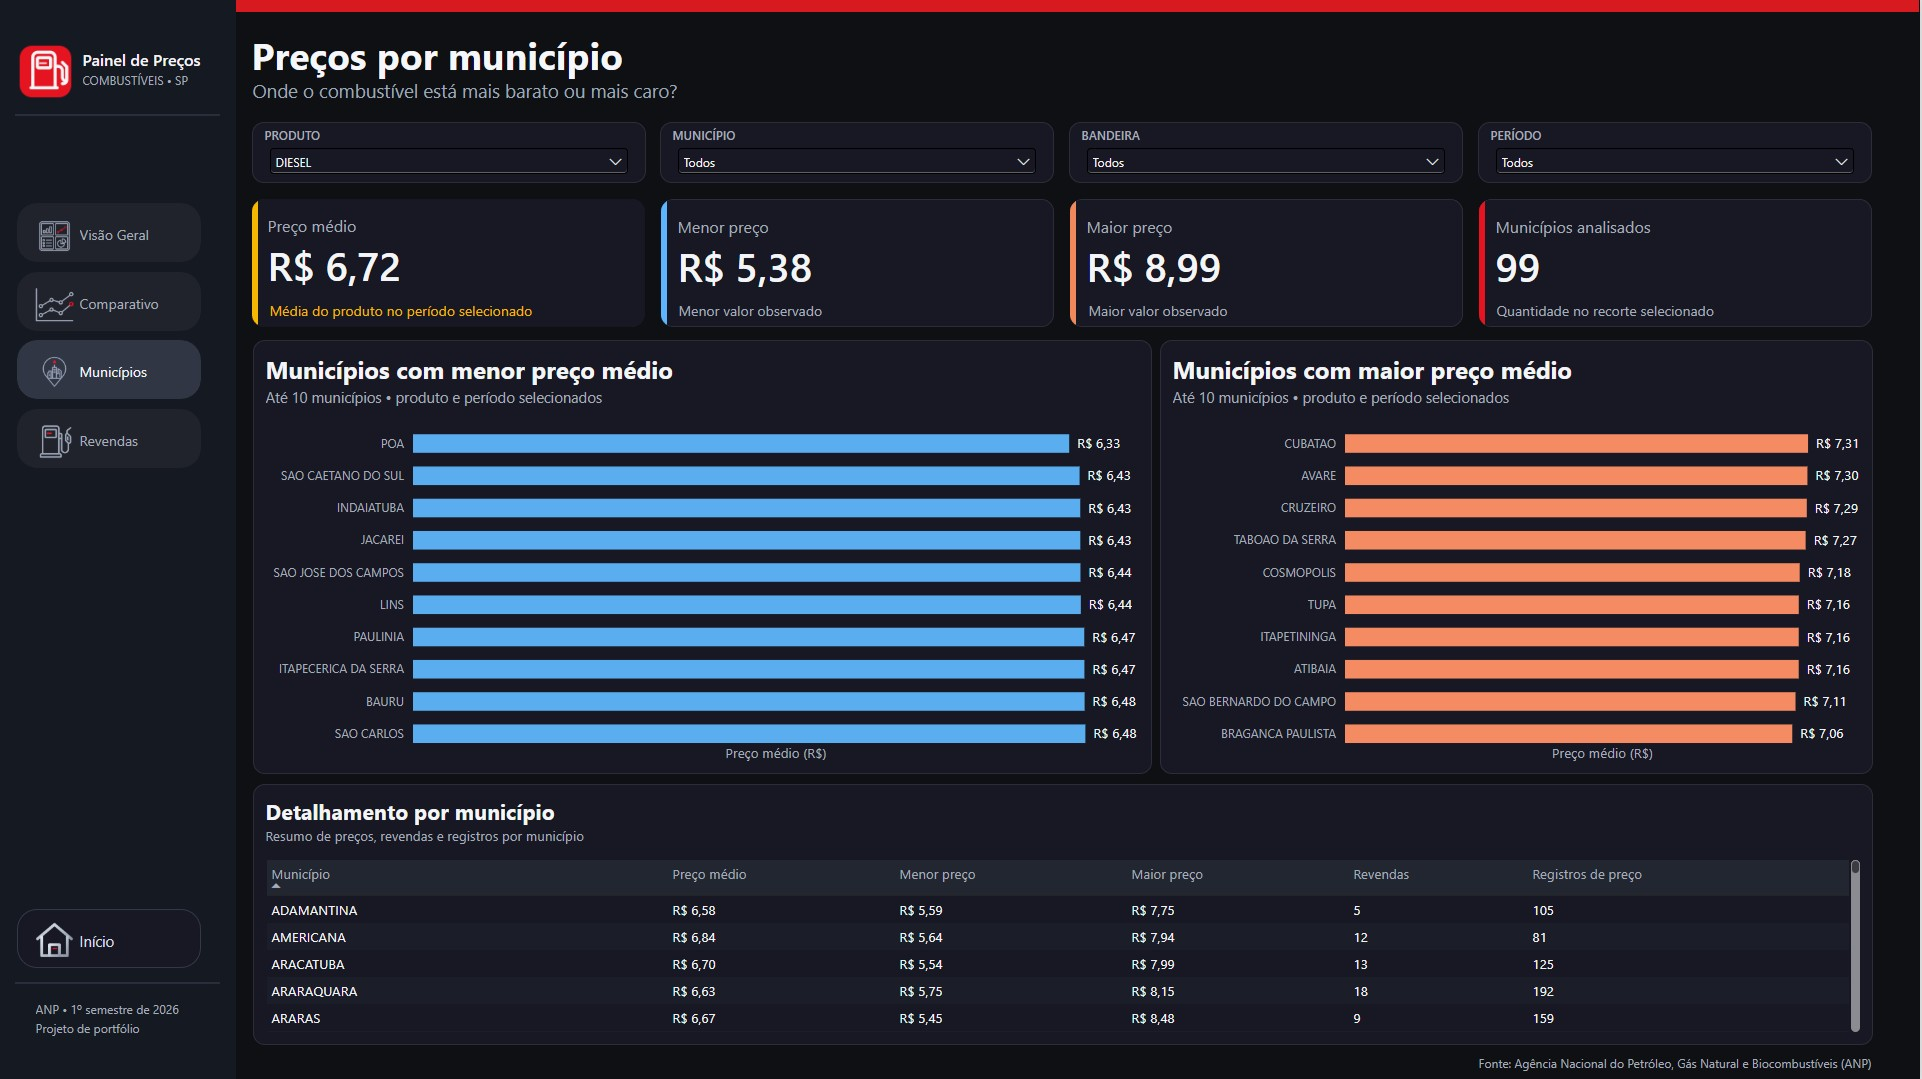

What the dashboard file says about the page in this screenshot:
{"tool":"powerbi","page":{"name":"03 - Municípios","canvas":[1920,1080],"ordinal":3},"visuals":[{"type":"slicer","title":"PRODUTO","fields":{"Values":["dim_produto.produto"]},"box":[252,123,394,61],"z":0,"group":"g3"},{"type":"cardVisual","title":"Cartões","fields":{"Data":["Medidas.preco_medio","Medidas.preco_minimo","Medidas.preco_maximo","Medidas.municipios_analisados"]},"box":[252,200,1620,128],"z":0,"group":"g2"},{"type":"clusteredBarChart","title":"Municípios com menor preço médio","fields":{"Category":["dim_revenda.municipio"],"Y":["Medidas.preco_medio"]},"box":[253,341,899,434],"z":0,"group":"g1"},{"type":"textbox","title":"Fonte","box":[1463,1054,409,24],"z":0},{"type":"shape","title":"Fundo menu","box":[0,0,236,1080],"z":500,"group":"g5"},{"type":"actionButton","title":"Botão início","box":[17,910,184,59],"z":750,"group":"g5"},{"type":"shape","title":"Enfeite","box":[236,0,1683,13],"z":1000},{"type":"textbox","title":"Subtítulo","box":[253,79,613,34],"z":1000,"group":"g4"},{"type":"slicer","title":"MUNICÍPIO","fields":{"Values":["dim_revenda.municipio"]},"box":[660,123,394,61],"z":1000,"group":"g3"},{"type":"clusteredBarChart","title":"Municípios com maior preço médio","fields":{"Category":["dim_revenda.municipio"],"Y":["Medidas.preco_medio"]},"box":[1160,341,713,434],"z":1000,"group":"g1"},{"type":"textbox","title":"Título","box":[252,31,614,53],"z":1500,"group":"g4"},{"type":"slicer","title":"BANDEIRA","fields":{"Values":["dim_bandeira.bandeira"]},"box":[1069,123,394,61],"z":2000,"group":"g3"},{"type":"textbox","title":"Legenda municípios","box":[1497,302,360,24],"z":2000,"group":"g2"},{"type":"tableEx","title":"Detalhamento por município","fields":{"Values":["dim_revenda.municipio","Medidas.preco_medio","Medidas.preco_minimo","Medidas.preco_maximo","Medidas.total_revendas","Medidas.total_registros"]},"box":[253,785,1620,261],"z":2000},{"type":"slicer","title":"PERÍODO","fields":{"Values":["dim_data.mes","dim_data.data"]},"box":[1478,123,394,61],"z":3000,"group":"g3"},{"type":"textbox","title":"Legenda maior preço","box":[1089,302,360,24],"z":3000,"group":"g2"},{"type":"actionButton","title":"Botão revenda","box":[17,410,184,59],"z":3000,"group":"g5"},{"type":"actionButton","title":"Botão municipios","box":[17,341,184,59],"z":3375,"group":"g5"},{"type":"actionButton","title":"Botão comparativo","box":[17,273,184,59],"z":3750,"group":"g5"},{"type":"textbox","title":"Legenda menor preço","box":[679,302,360,24],"z":4000,"group":"g2"},{"type":"actionButton","title":"Botão visão geral","box":[17,204,184,59],"z":4500,"group":"g5"},{"type":"textbox","title":"Legenda preço médio","box":[270,302,360,24],"z":4500,"group":"g2"},{"type":"shape","title":"Linha superior","box":[15,101,205,30],"z":4750,"group":"g5"},{"type":"textbox","title":"Informação","box":[83,50,151,48],"z":5000,"group":"g5"},{"type":"image","title":"Logo","box":[17,43,57,58],"z":6000,"group":"g5"},{"type":"group","id":"g1","title":"Gráficos do meio","box":[253,341,1620,434],"z":7000},{"type":"textbox","title":"Informação","box":[36,1000,184,40],"z":7000,"group":"g5"},{"type":"group","id":"g2","title":"Cartões superiores","box":[252,200,1620,128],"z":7062},{"type":"group","id":"g3","title":"Filtros","box":[252,123,1620,61],"z":7125},{"type":"group","id":"g4","title":"Título da página","box":[252,31,614,82],"z":7250},{"type":"group","id":"g5","title":"Menu lateral","box":[0,0,236,1080],"z":7500},{"type":"shape","title":"Linha inferior","box":[15,969,205,30],"z":8000,"group":"g5"}]}

Visuals, with their boxes on the page's 1920x1080 design canvas (x1, y1, x2, y2). These are canvas units, not pixel positions in the 1922x1079 screenshot, which may show the page scaled, cropped or inside an application window:
"PRODUTO" slicer: select_region(252, 123, 646, 184)
"Cartões" cardVisual: select_region(252, 200, 1872, 328)
"Municípios com menor preço médio" clusteredBarChart: select_region(253, 341, 1152, 775)
"Fonte" textbox: select_region(1463, 1054, 1872, 1078)
"Fundo menu" shape: select_region(0, 0, 236, 1080)
"Botão início" actionButton: select_region(17, 910, 201, 969)
"Enfeite" shape: select_region(236, 0, 1919, 13)
"Subtítulo" textbox: select_region(253, 79, 866, 113)
"MUNICÍPIO" slicer: select_region(660, 123, 1054, 184)
"Municípios com maior preço médio" clusteredBarChart: select_region(1160, 341, 1873, 775)
"Título" textbox: select_region(252, 31, 866, 84)
"BANDEIRA" slicer: select_region(1069, 123, 1463, 184)
"Legenda municípios" textbox: select_region(1497, 302, 1857, 326)
"Detalhamento por município" tableEx: select_region(253, 785, 1873, 1046)
"PERÍODO" slicer: select_region(1478, 123, 1872, 184)
"Legenda maior preço" textbox: select_region(1089, 302, 1449, 326)
"Botão revenda" actionButton: select_region(17, 410, 201, 469)
"Botão municipios" actionButton: select_region(17, 341, 201, 400)
"Botão comparativo" actionButton: select_region(17, 273, 201, 332)
"Legenda menor preço" textbox: select_region(679, 302, 1039, 326)
"Botão visão geral" actionButton: select_region(17, 204, 201, 263)
"Legenda preço médio" textbox: select_region(270, 302, 630, 326)
"Linha superior" shape: select_region(15, 101, 220, 131)
"Informação" textbox: select_region(83, 50, 234, 98)
"Logo" image: select_region(17, 43, 74, 101)
"Gráficos do meio" group: select_region(253, 341, 1873, 775)
"Informação" textbox: select_region(36, 1000, 220, 1040)
"Cartões superiores" group: select_region(252, 200, 1872, 328)
"Filtros" group: select_region(252, 123, 1872, 184)
"Título da página" group: select_region(252, 31, 866, 113)
"Menu lateral" group: select_region(0, 0, 236, 1080)
"Linha inferior" shape: select_region(15, 969, 220, 999)
